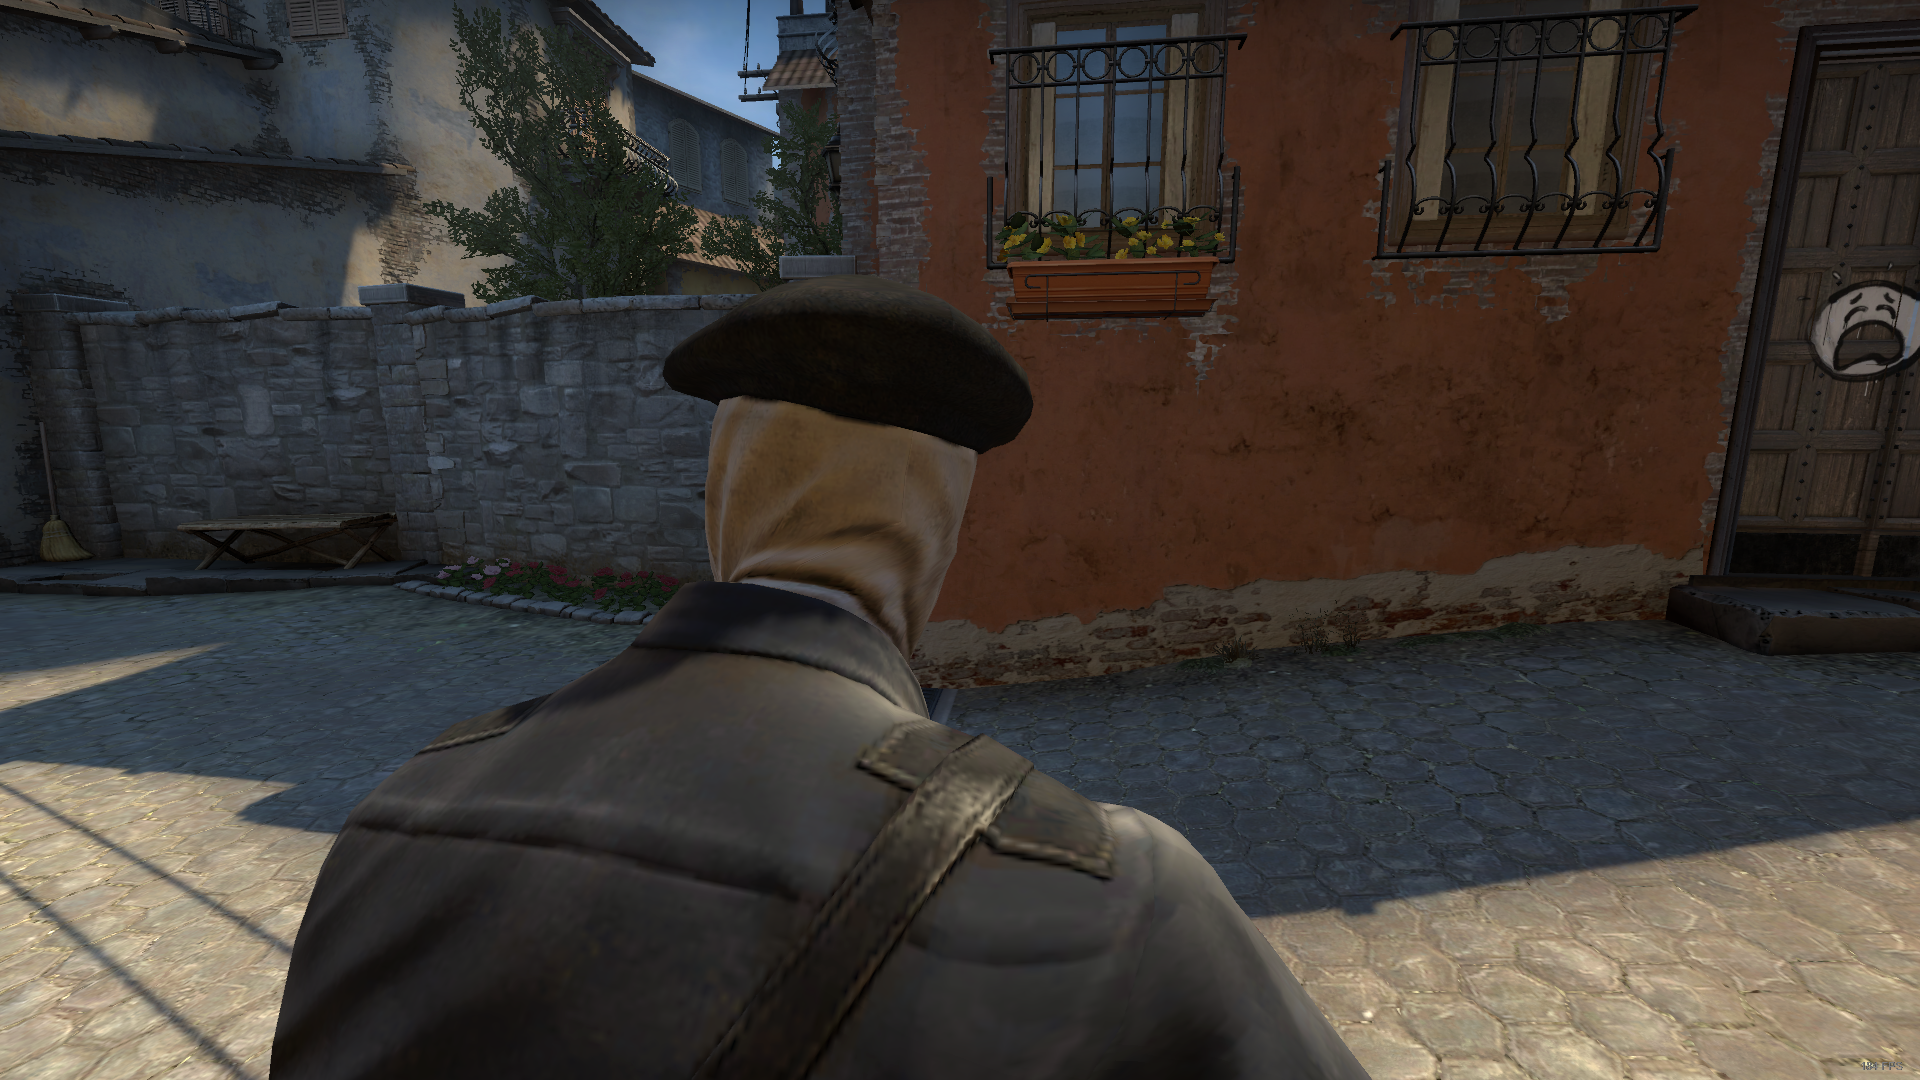t: (280, 280, 1375, 1080)
